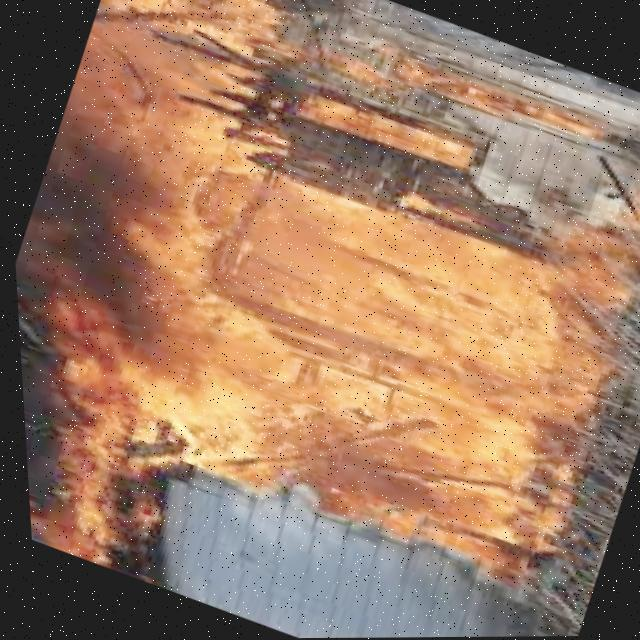Fire: (0, 0, 640, 640)
Smoke: (5, 99, 218, 554)
